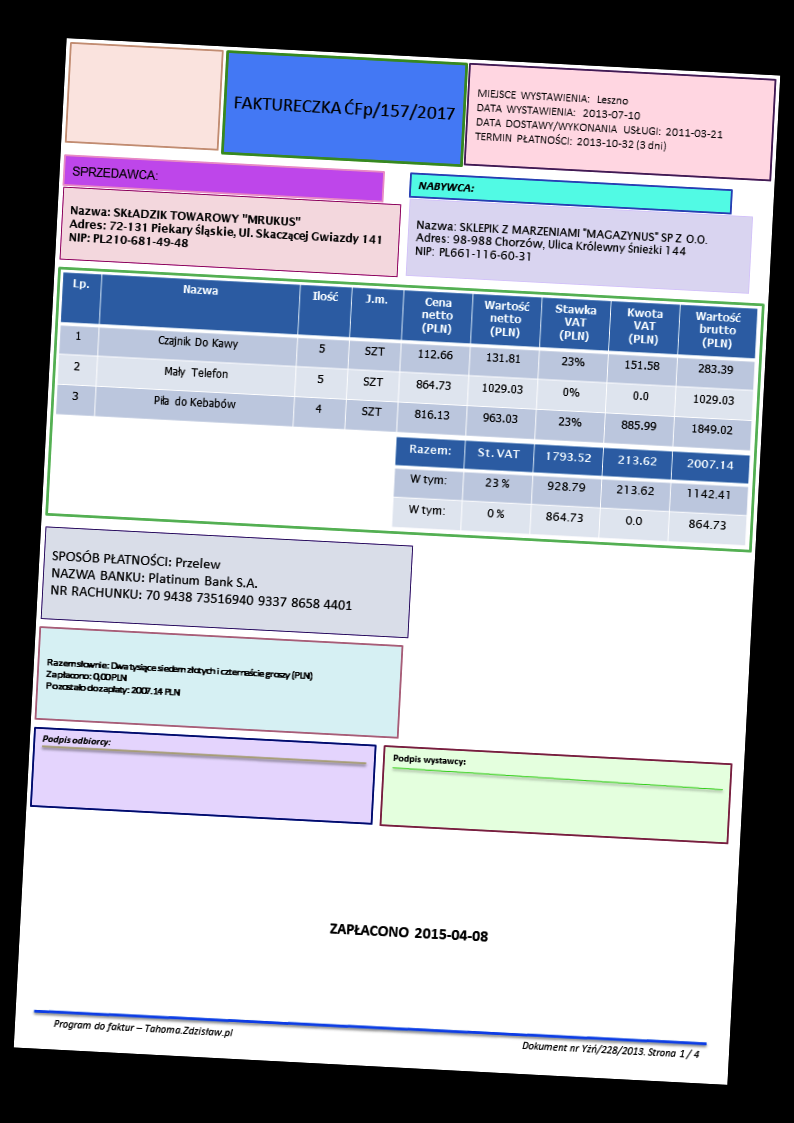Table: (53, 269, 756, 449), (389, 434, 752, 546)
TextBox: (44, 544, 358, 616), (65, 198, 385, 264), (468, 84, 729, 160), (410, 213, 711, 275), (42, 653, 318, 707), (226, 85, 458, 127), (47, 1011, 236, 1045), (321, 915, 492, 947), (519, 1037, 706, 1064), (67, 161, 160, 183), (38, 728, 114, 753), (384, 749, 468, 770), (414, 176, 475, 197)
